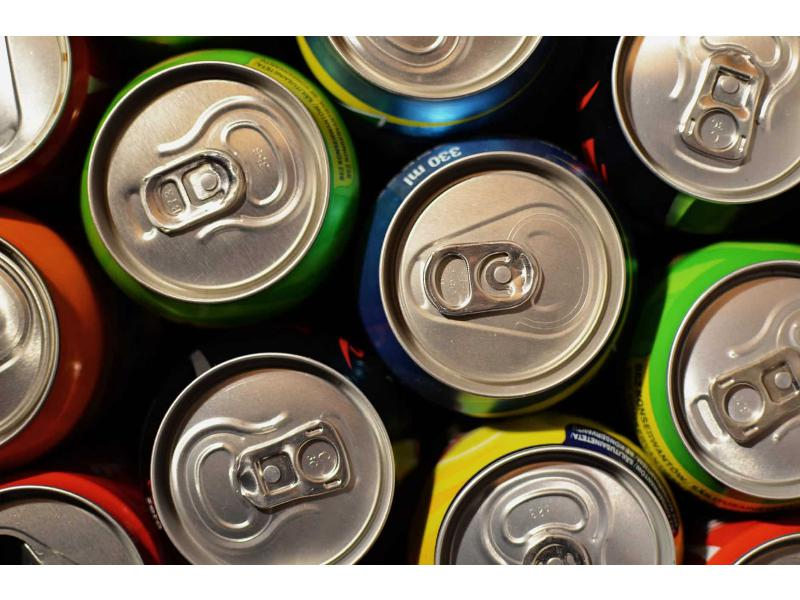can: (361, 141, 639, 410), (73, 48, 339, 315), (143, 347, 407, 568), (598, 35, 800, 213), (667, 248, 797, 513), (432, 448, 687, 566), (0, 217, 90, 463), (313, 36, 553, 101), (1, 477, 151, 566)
